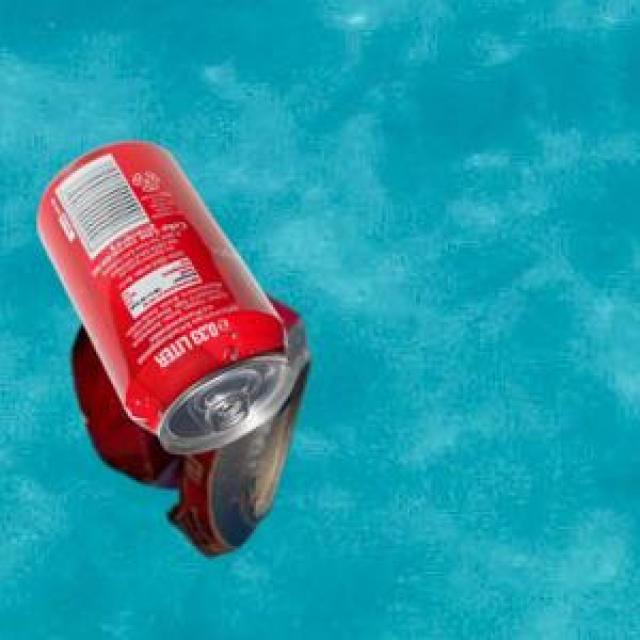Can: (35, 138, 291, 451), (69, 293, 306, 554)
